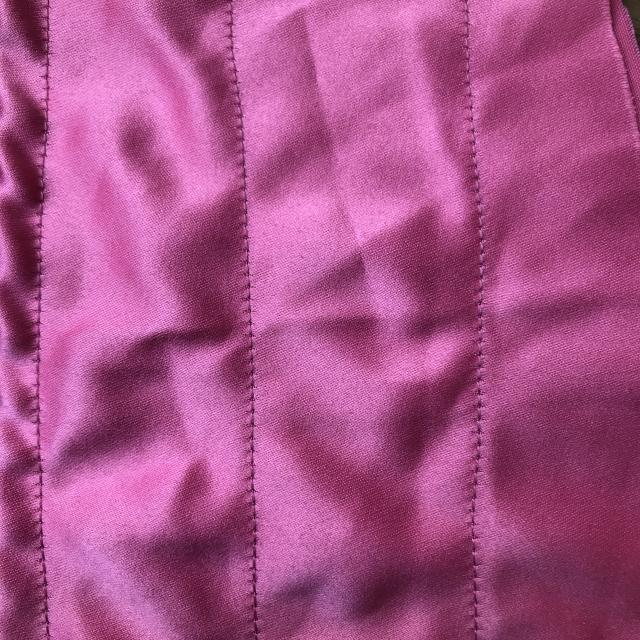good: (228, 202, 272, 414), (468, 222, 502, 404)
